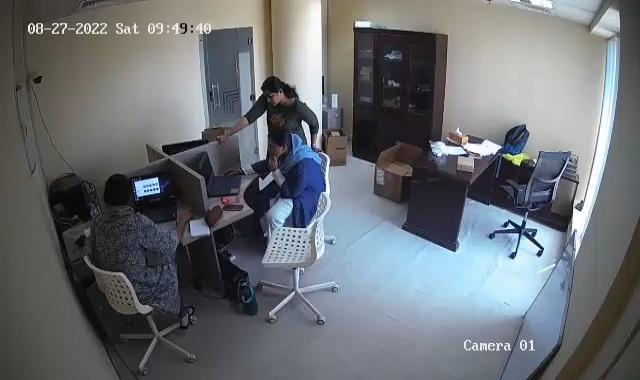no_hairnet: (258, 74, 286, 112), (100, 173, 132, 204), (267, 123, 293, 159)
